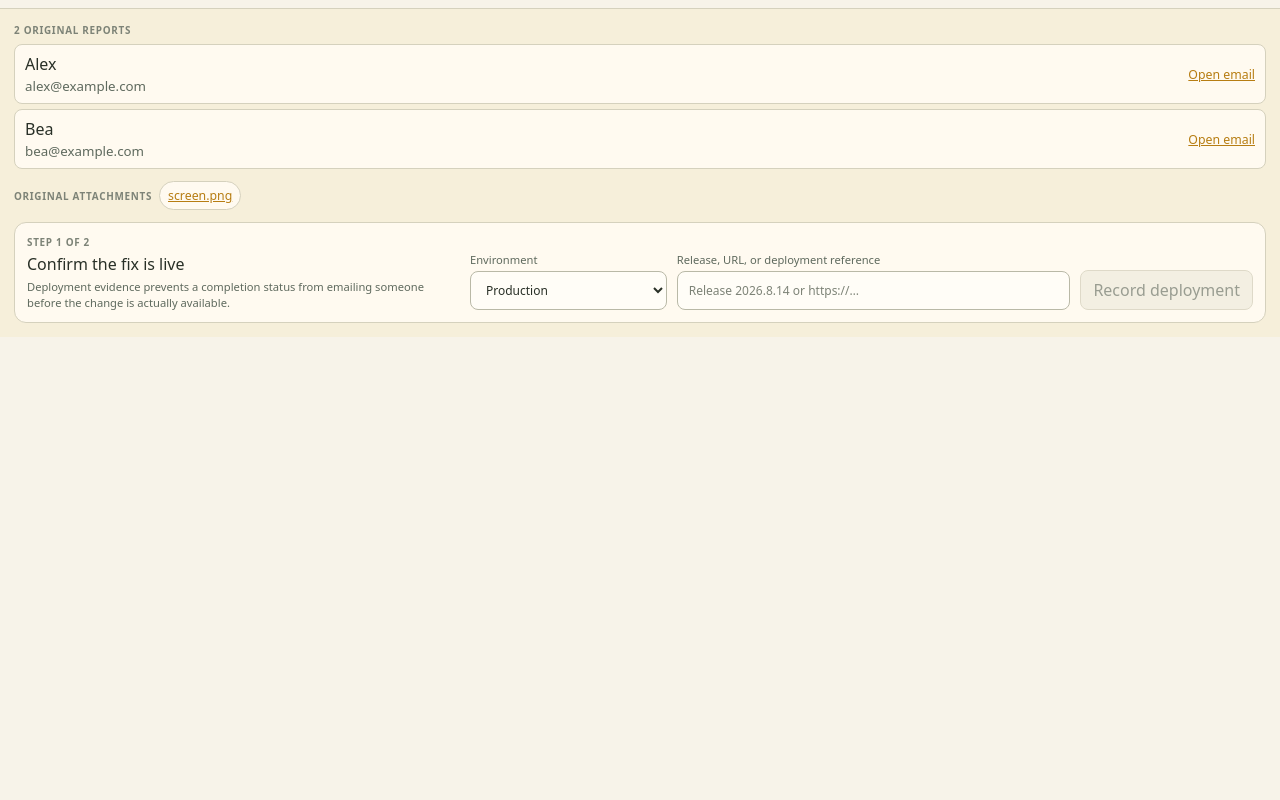
Test: requires deployment evidence and a second explicit confirmation before replying
Expected: the text "Confirm the fix is live" is shown, [27,253,184,275]
Type "release-42" into the field labelled "Release, URL, or deployment reference". click: (874,291)
box: [677,271,1070,310]
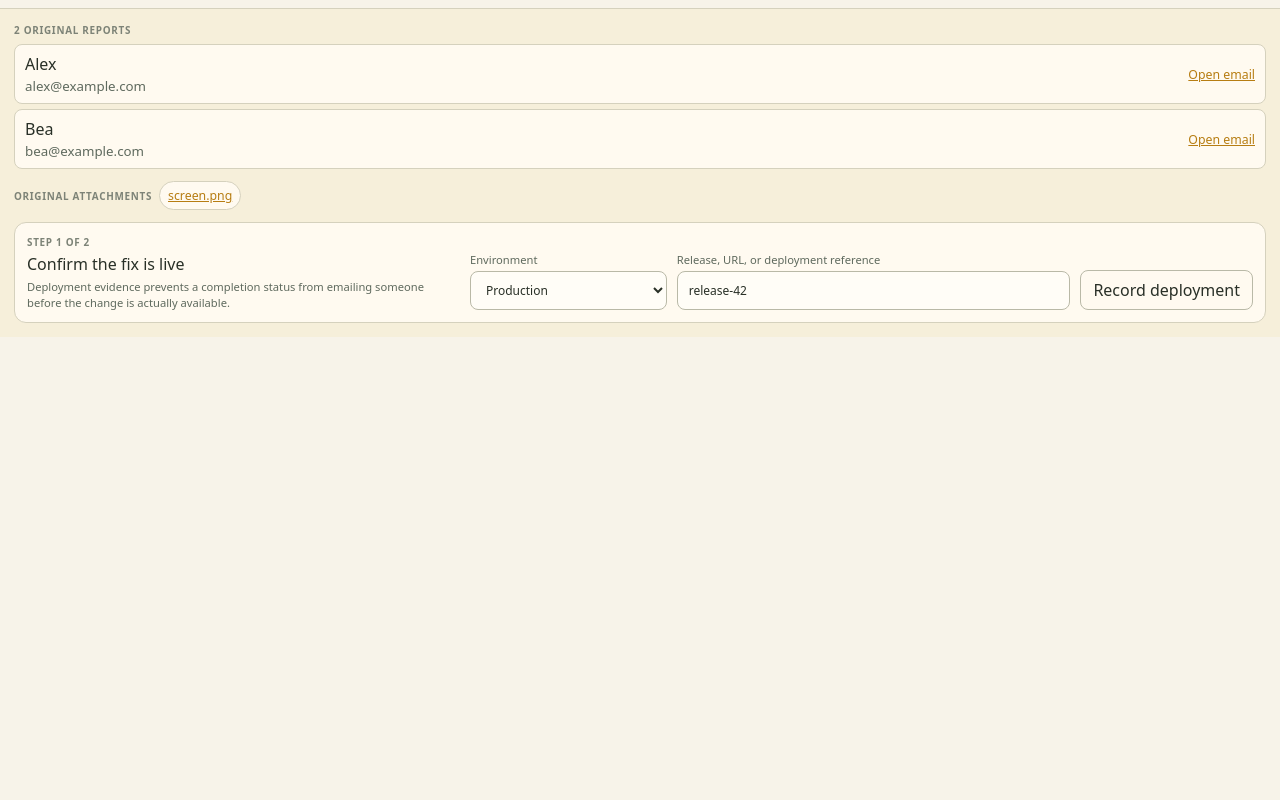
Click the button "Record deployment". click: (1167,290)
box: [1080,270,1253,310]
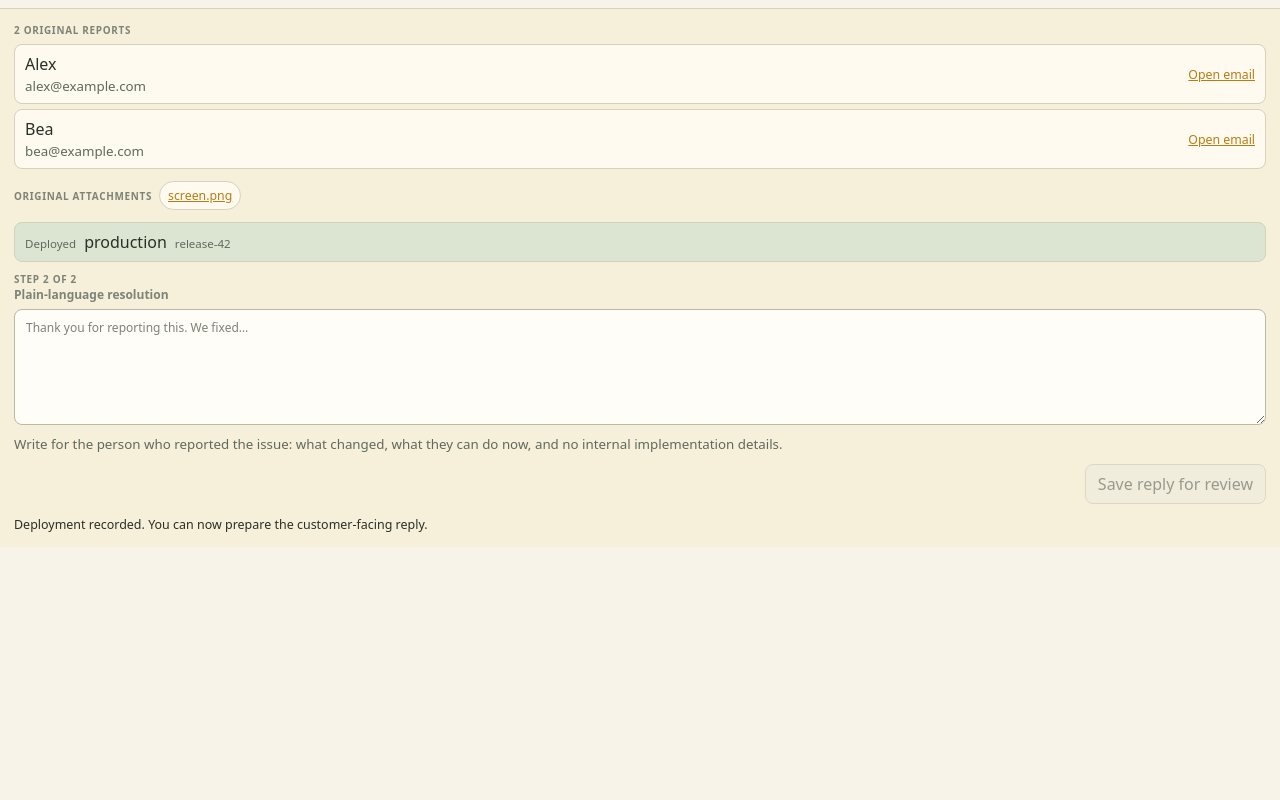
Expected: the text box labelled "Step 2 of 2 Plain-language resolution" is shown
Type "Thank you. The form now saves correctly." into the text box labelled "Step 2 of 2 Plain-language resolution". click: (640,367)
box: [14,309,1266,425]
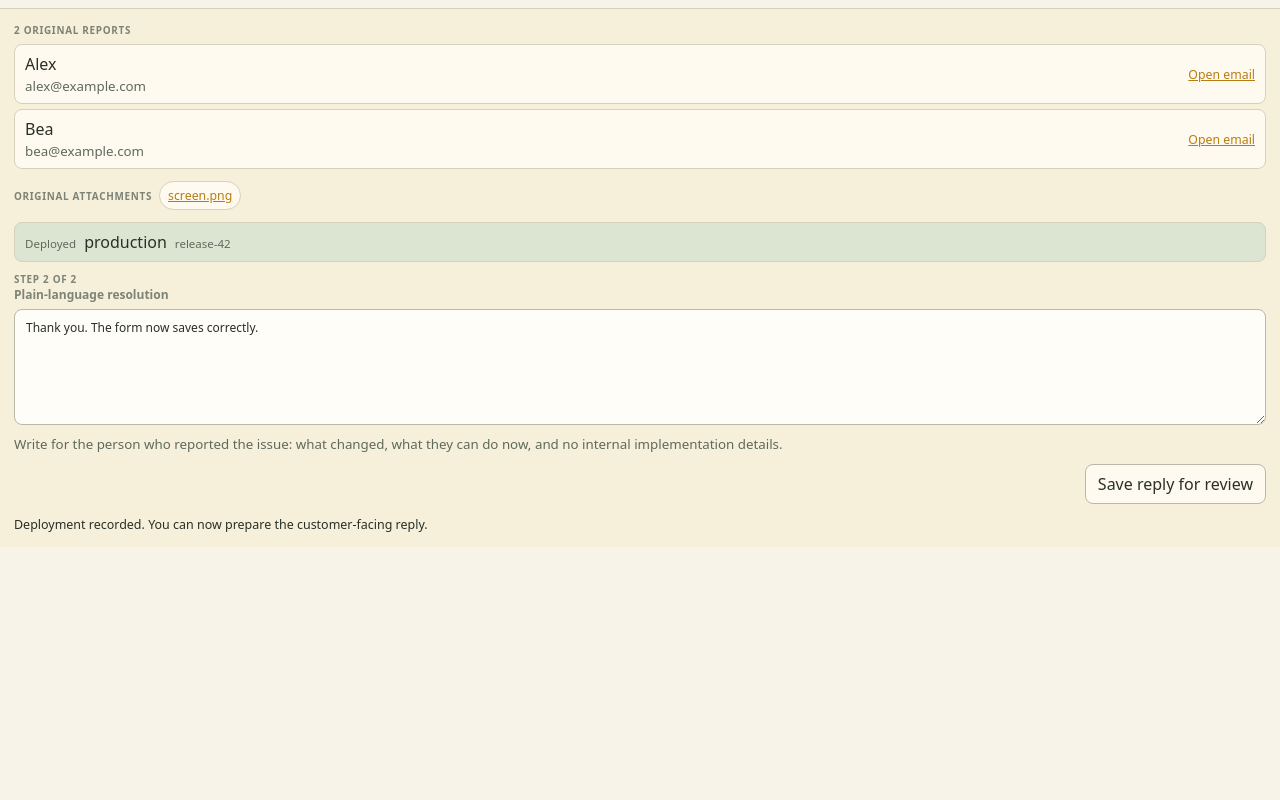
Click the button "Save reply for review". click: (1175,484)
box: [1085,464,1266,504]
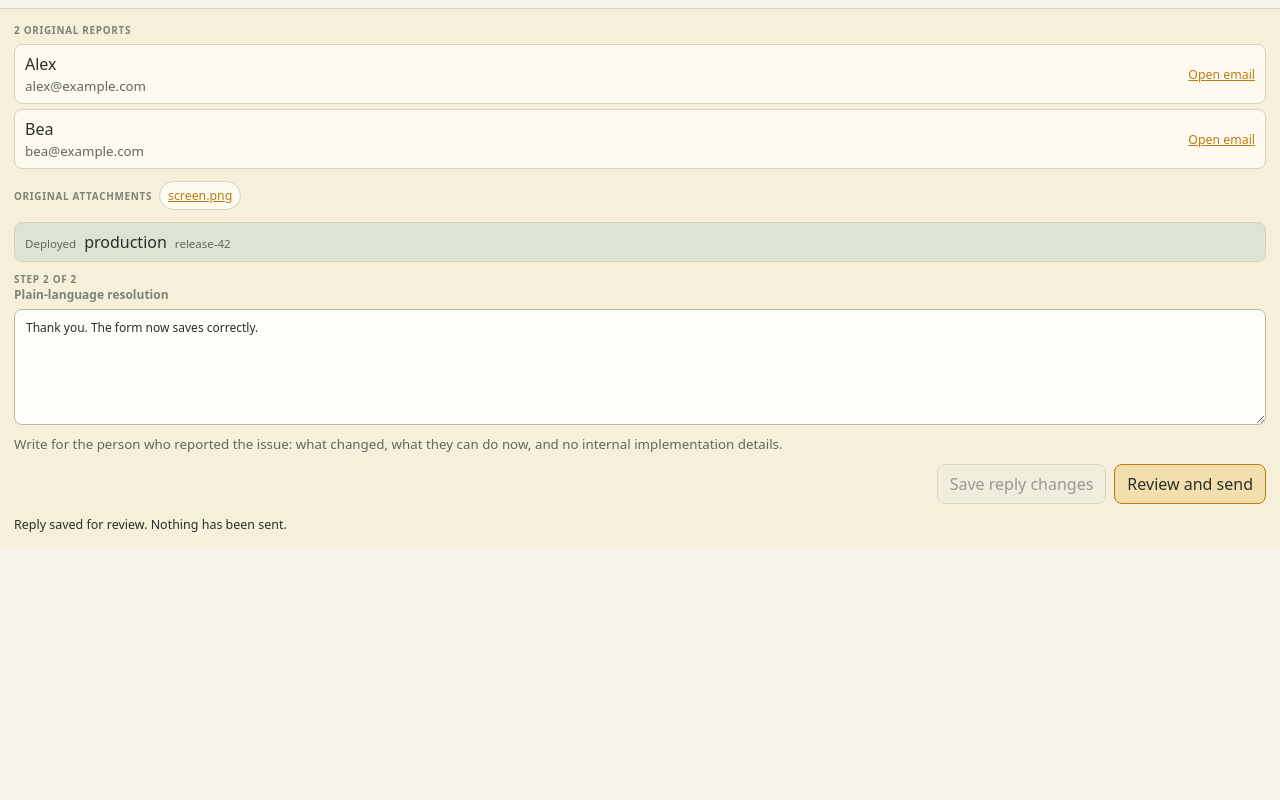
Expected: the text "Reply saved for review. Nothing has been sent." is shown, [14,516,287,533]
Click the button "Review and send". click: (1190,484)
box: [1114,464,1266,504]
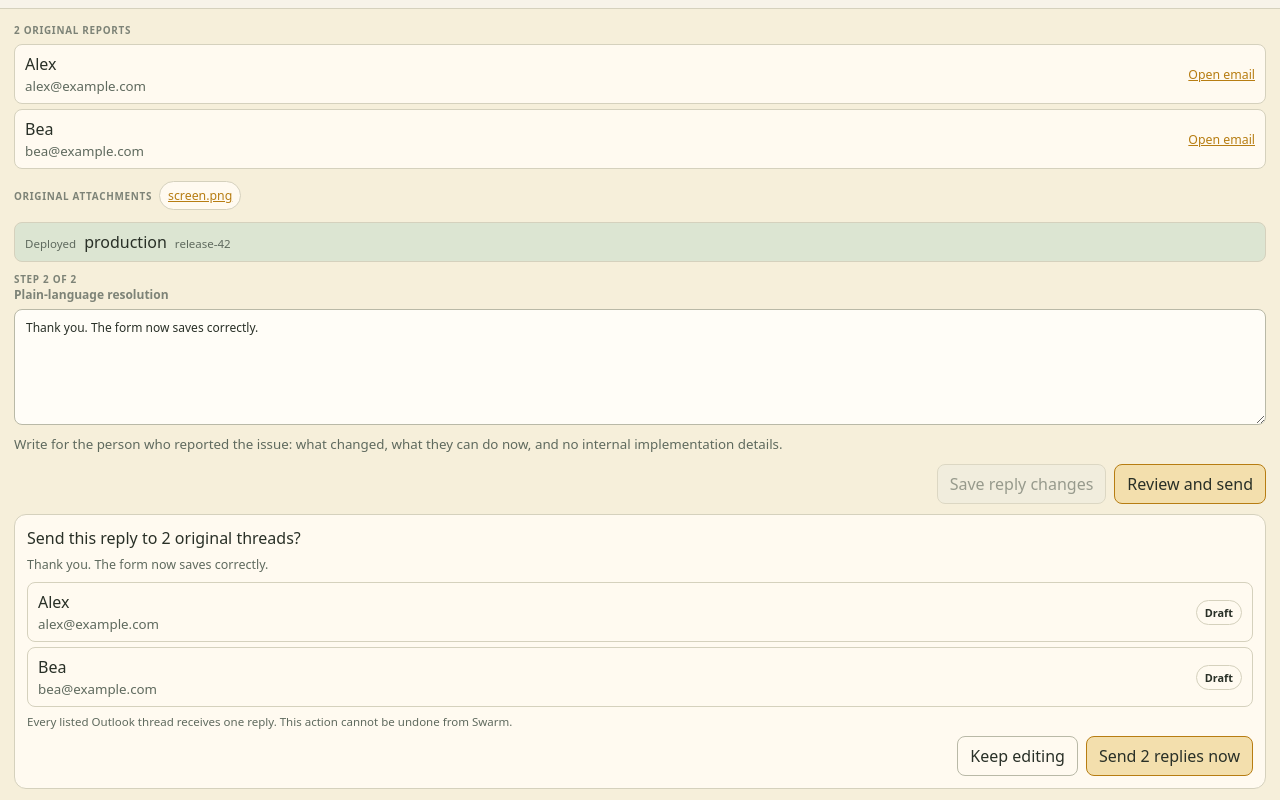
Expected: the element named "Confirm email reply" shows "alex@example.com", [38,615,159,633]
Expected: the element named "Confirm email reply" shows "2 original threads", [14,514,1266,789]
Click the button "Send 2 replies now". click: (1169,756)
box: [1086,736,1253,776]
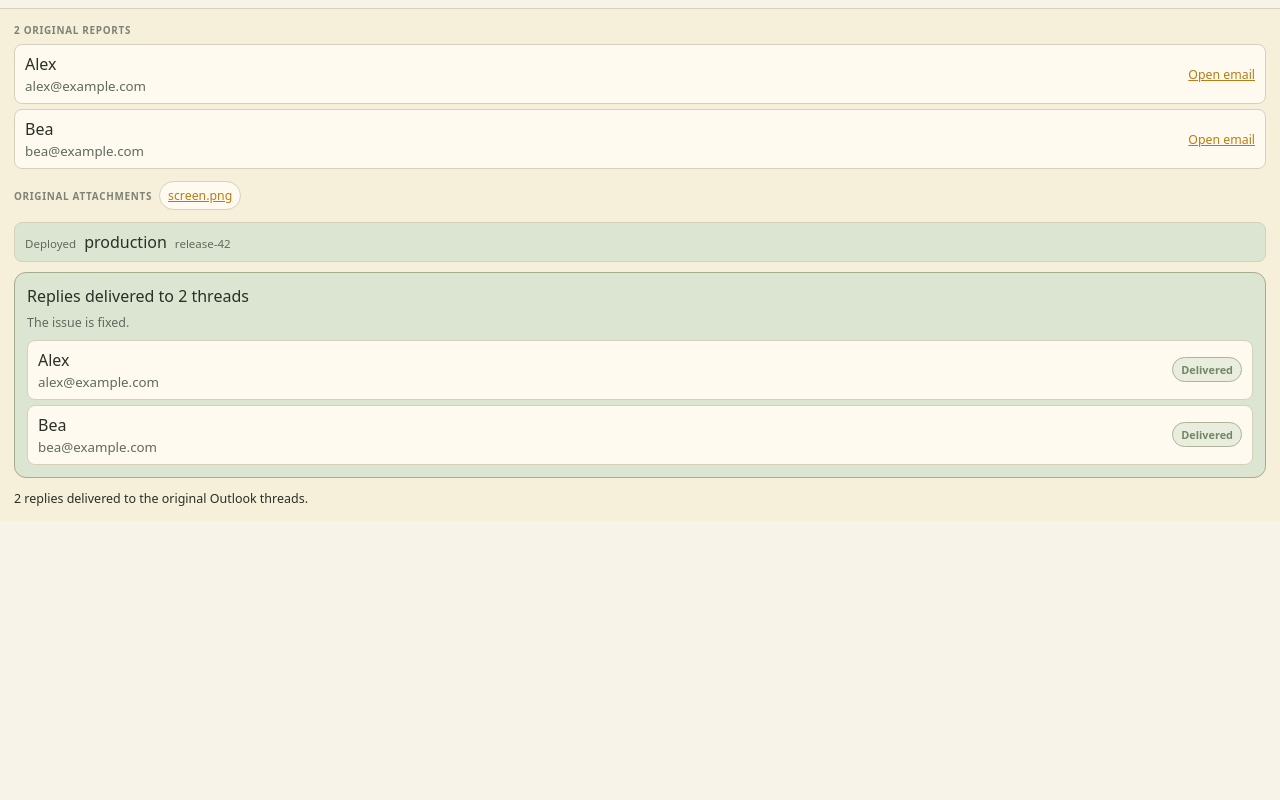
Expected: the text "Replies delivered to 2 threads" is shown, [27,285,249,307]
